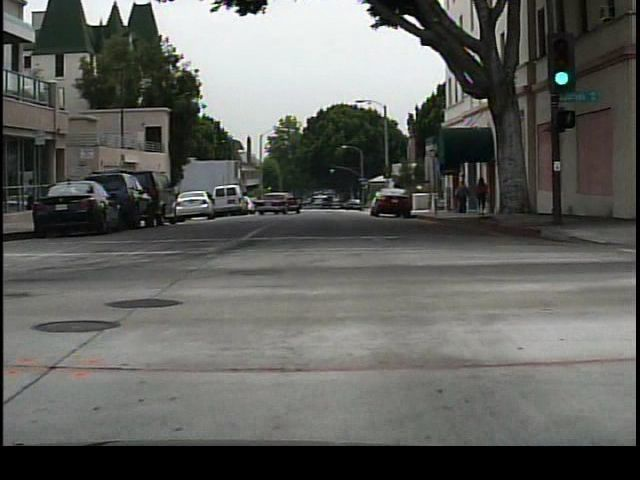person: (452, 177, 474, 216), (473, 173, 492, 218)
